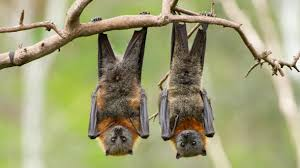bats: (72, 10, 155, 156), (155, 9, 228, 158)
